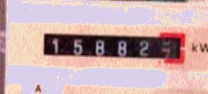1: (49, 36, 60, 55)
2: (137, 38, 149, 56)
5: (70, 37, 83, 55)
7: (159, 46, 171, 59)
8: (93, 38, 105, 55), (116, 39, 127, 56)
screen: (35, 21, 192, 68)
